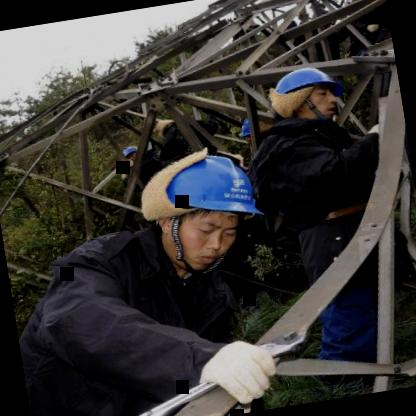helmet: (140, 140, 274, 276), (265, 56, 349, 128)
